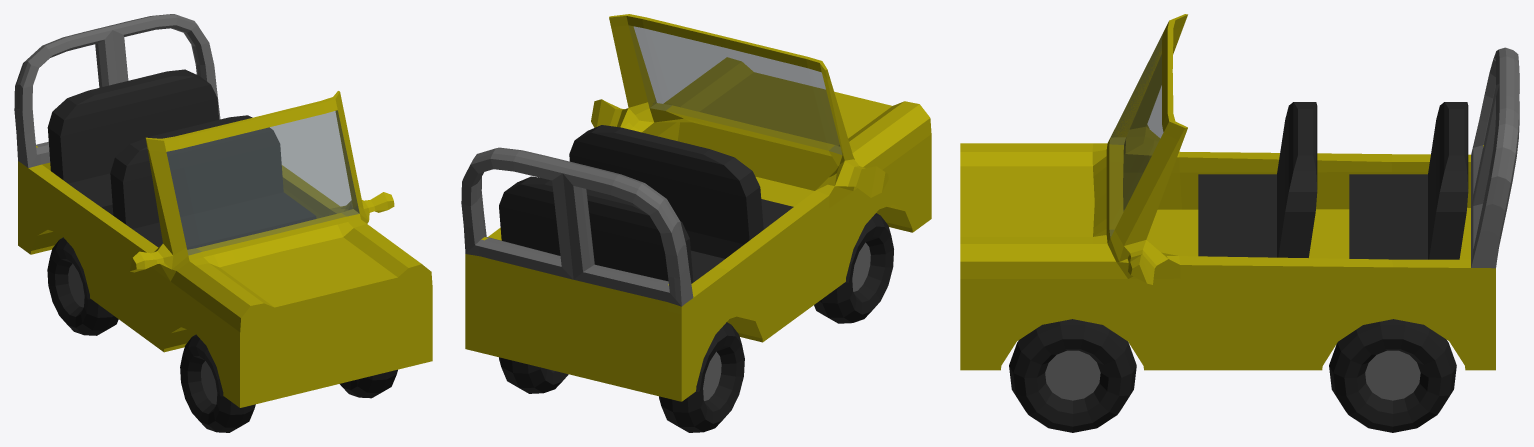
Rendered from Jeep.fbx.
The picture shows the model from 3 angles, left to right: view 1: azimuth 30°, elevation 25°; view 2: azimuth 150°, elevation 25°; view 3: azimuth 270°, elevation 25°; orthographic projection. The views are drawn at different scales.
Visible parts, largest first — view 1: Cube, FrontGlass, Seat, Seat2, WheelFR, WheelBR, WheelFL; view 2: Cube, FrontGlass, Seat, Seat2, WheelBR, WheelFR, WheelBL; view 3: Cube, Seat2, Seat, WheelBL, WheelFL, FrontGlass.
Boxes of the visible parts, x1=… form: Cube: x1=14, y1=14, x2=432, y2=407; FrontGlass: x1=166, y1=110, x2=359, y2=255; Seat: x1=110, y1=115, x2=315, y2=249; Seat2: x1=47, y1=69, x2=218, y2=215; WheelFR: x1=180, y1=334, x2=255, y2=432; WheelBR: x1=47, y1=237, x2=118, y2=335; WheelFL: x1=340, y1=369, x2=397, y2=398; Cube: x1=461, y1=14, x2=931, y2=401; FrontGlass: x1=629, y1=25, x2=842, y2=154; Seat: x1=569, y1=125, x2=793, y2=258; Seat2: x1=499, y1=176, x2=724, y2=283; WheelBR: x1=659, y1=322, x2=744, y2=432; WheelFR: x1=814, y1=213, x2=893, y2=323; WheelBL: x1=499, y1=357, x2=568, y2=393; Cube: x1=960, y1=14, x2=1519, y2=370; Seat2: x1=1349, y1=102, x2=1468, y2=259; Seat: x1=1198, y1=102, x2=1317, y2=257; WheelBL: x1=1329, y1=319, x2=1456, y2=432; WheelFL: x1=1009, y1=319, x2=1136, y2=432; FrontGlass: x1=1109, y1=33, x2=1163, y2=237.
Size of the model in its own units: 237 by 230 by 368.
